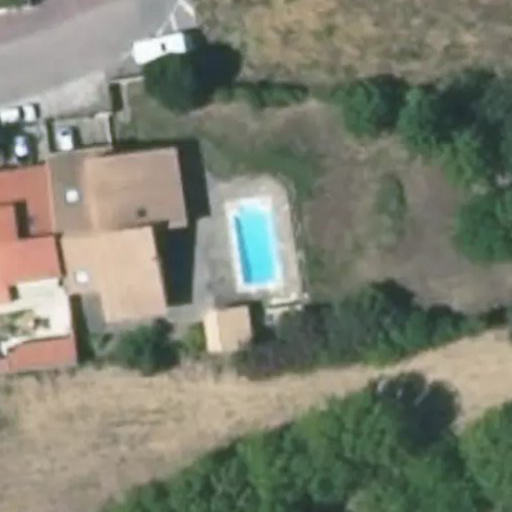pool: (232, 206, 279, 277)
